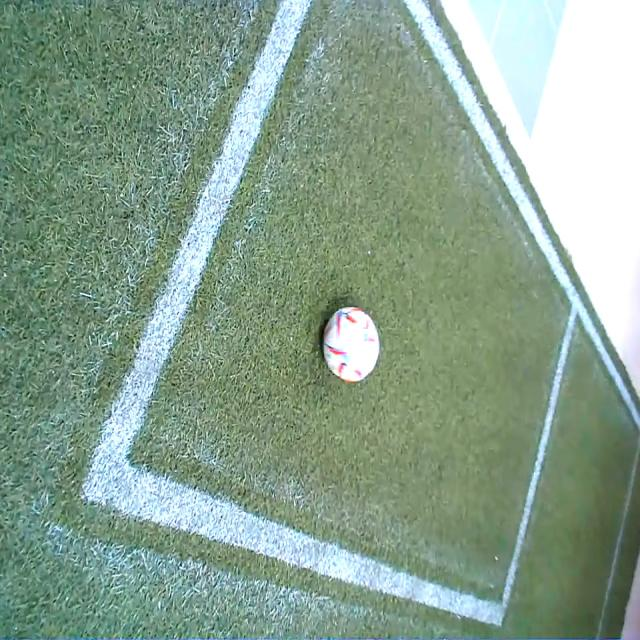ball: (324, 306, 381, 384)
